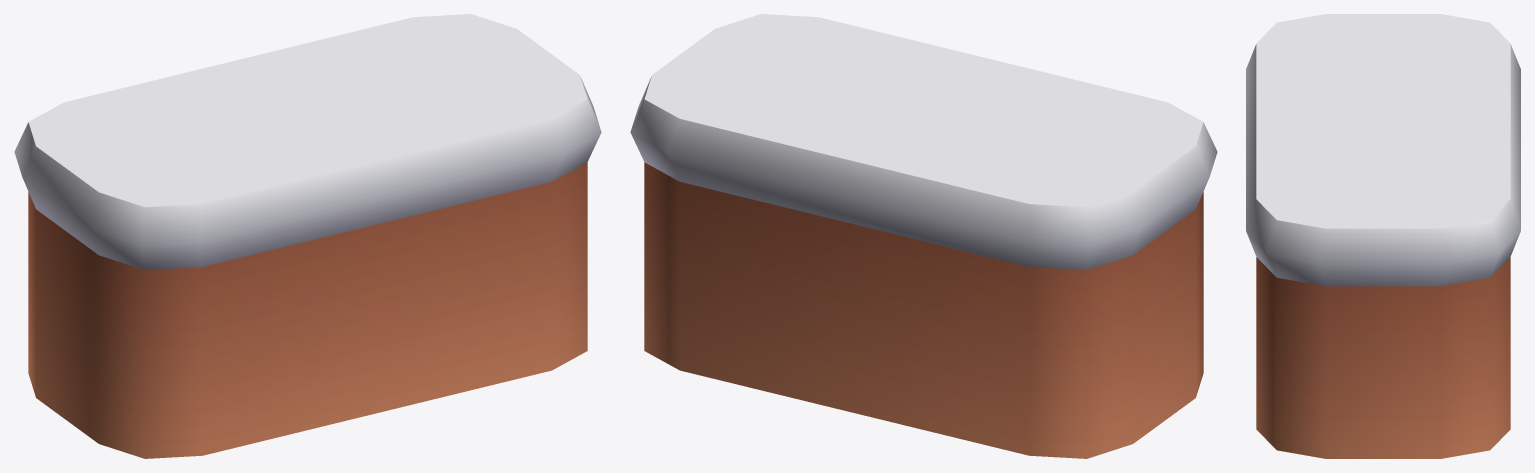
Rendered from block-snow-long.glb.
The picture shows the model from 3 angles, left to right: view 1: azimuth 30°, elevation 25°; view 2: azimuth 150°, elevation 25°; view 3: azimuth 270°, elevation 25°; orthographic projection. The views are drawn at different scales.
Visible parts, largest first — view 1: block-snow-long; view 2: block-snow-long; view 3: block-snow-long.
Boxes of the visible parts, left/top/right/bottom form: block-snow-long: left=14, top=14, right=601, bottom=458; block-snow-long: left=630, top=14, right=1217, bottom=458; block-snow-long: left=1246, top=14, right=1520, bottom=458.
Bounding box in the file's own units: 2.08 × 1 × 1.08.
Materials: 1 (1 with a texture image).
